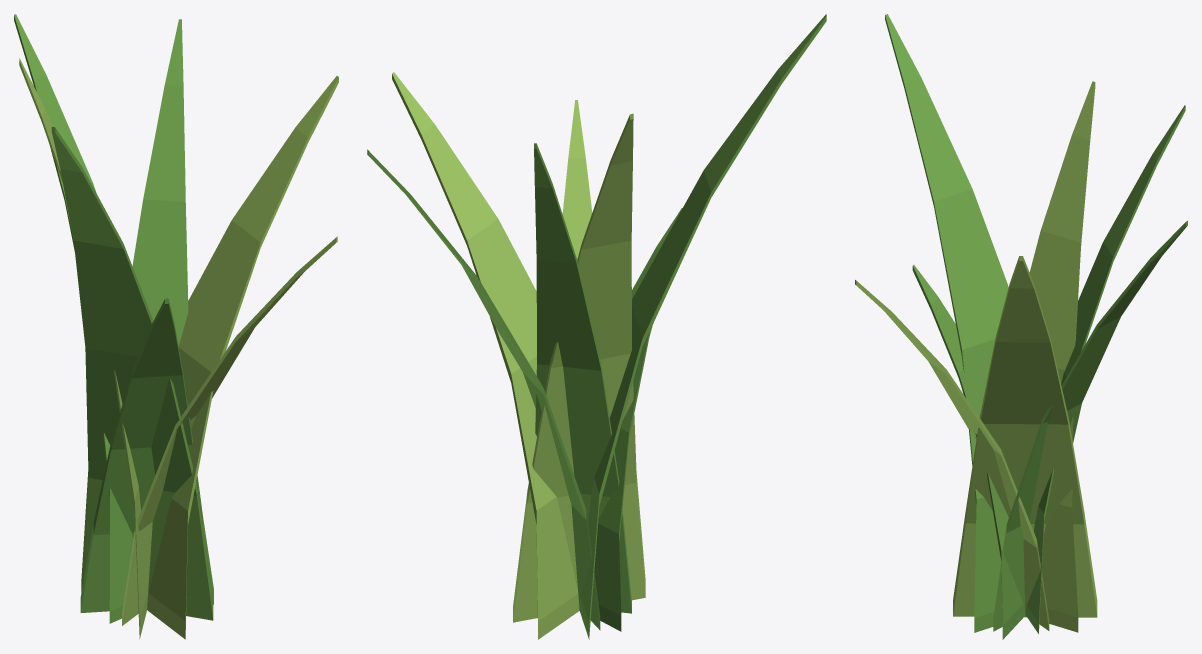
File: SM_Grass_Short.fbx
3 renders of one model, left to right at view 1: azimuth 30°, elevation 25°; view 2: azimuth 150°, elevation 25°; view 3: azimuth 270°, elevation 25°, orthographic. The views are drawn at different scales.
Parts seen in each view (by area): view 1: SM_Grass_Short; view 2: SM_Grass_Short; view 3: SM_Grass_Short.
Part boxes in pixels (<box>): SM_Grass_Short: <box>14,14,338,639</box>; SM_Grass_Short: <box>367,14,826,639</box>; SM_Grass_Short: <box>855,14,1187,639</box>.
Size of the model in its own units: 0.2771 by 0.4277 by 0.2445.
